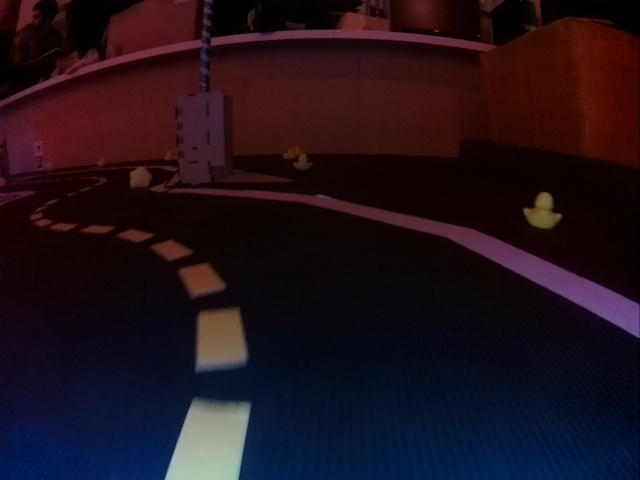Duckie: (522, 192, 561, 229), (129, 167, 152, 189), (295, 156, 312, 169), (282, 147, 295, 159), (164, 150, 174, 160), (98, 159, 107, 167)
